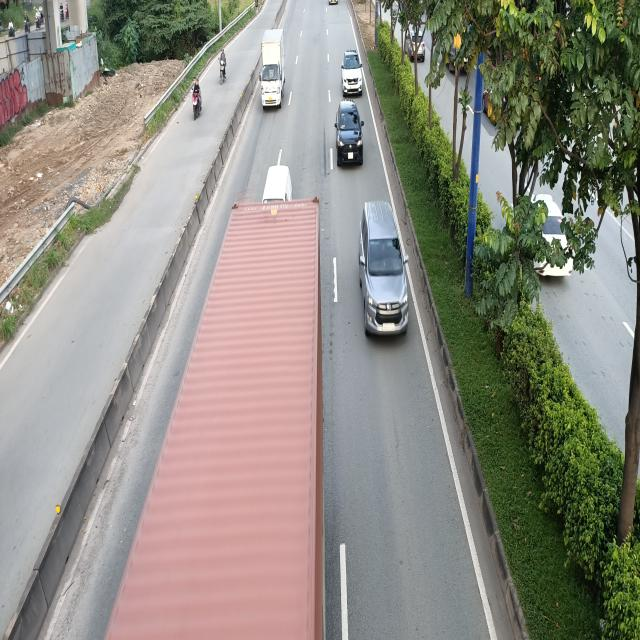car: (356, 202, 408, 341), (335, 102, 364, 168), (341, 50, 363, 96)
container: (105, 203, 320, 640)
truck: (261, 29, 288, 111)
